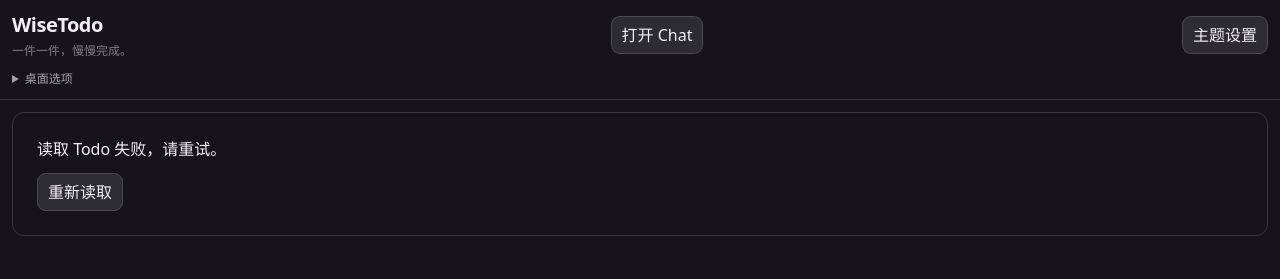
Test case: App › allows retry after a read failure
Check: the message shows "读取 Todo 失败", box [37,138,226,160]
Click the button "重新读取": (80, 192) [37,173,123,211]
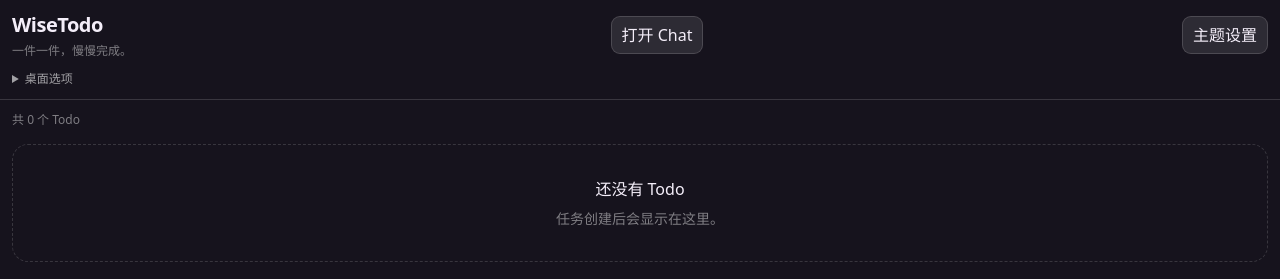
Check: the text "还没有 Todo" is shown, box [595,178,684,200]
